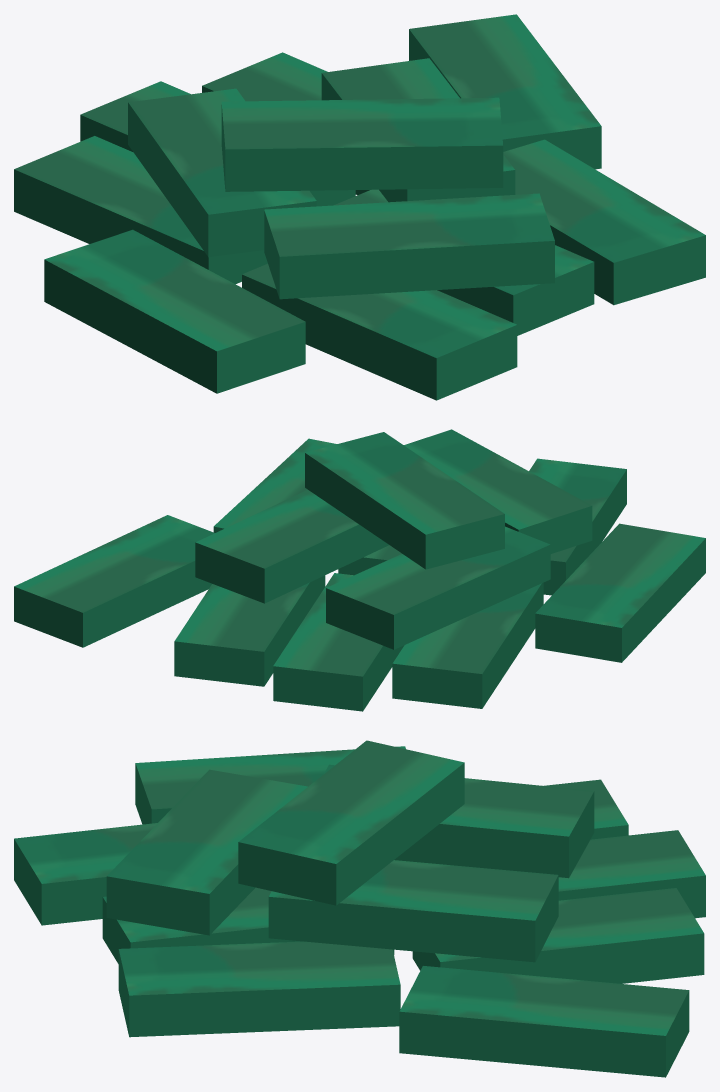
The model's file is Cash Pile.fbx.
The picture shows the model from 3 angles, top to bottom: view 1: azimuth 30°, elevation 25°; view 2: azimuth 150°, elevation 25°; view 3: azimuth 270°, elevation 25°; orthographic projection. The views are drawn at different scales.
Visible parts, largest first — view 1: SM_Prop_Money_Stack_03.002; view 2: SM_Prop_Money_Stack_03.002; view 3: SM_Prop_Money_Stack_03.002.
Part boxes in pixels (bbox=[...]): SM_Prop_Money_Stack_03.002: bbox=[14, 14, 705, 400]; SM_Prop_Money_Stack_03.002: bbox=[14, 429, 705, 711]; SM_Prop_Money_Stack_03.002: bbox=[14, 740, 705, 1077].
Size of the model in its own units: 191 by 38.32 by 193.
